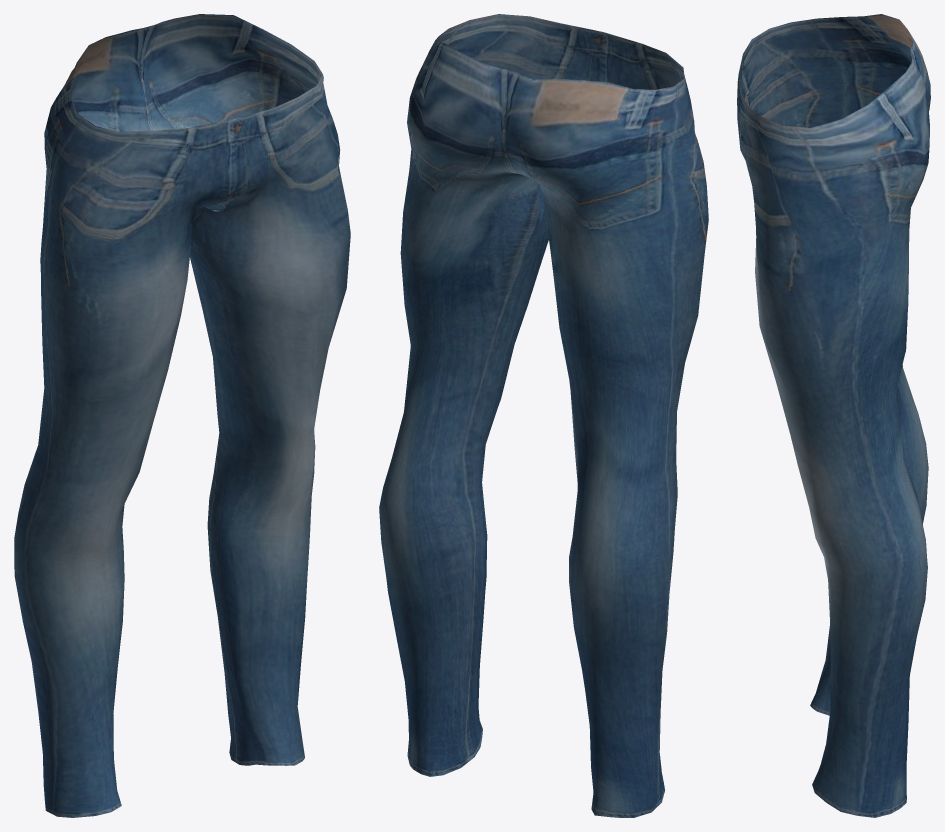
Rendered from bottom_jeans_light.gltf.
The picture shows the model from 3 angles, left to right: view 1: azimuth 30°, elevation 25°; view 2: azimuth 150°, elevation 25°; view 3: azimuth 270°, elevation 25°; orthographic projection. The views are drawn at different scales.
Visible parts, largest first — view 1: bottom_jeans_light; view 2: bottom_jeans_light; view 3: bottom_jeans_light.
Part boxes in pixels (x1,y1,x2,y2): bottom_jeans_light: (14,14,350,817); bottom_jeans_light: (379,14,708,817); bottom_jeans_light: (737,14,930,817).
Size of the model in its own units: 0.3782 by 0.9386 by 0.2314.
Materials: 1 (1 with a texture image).
